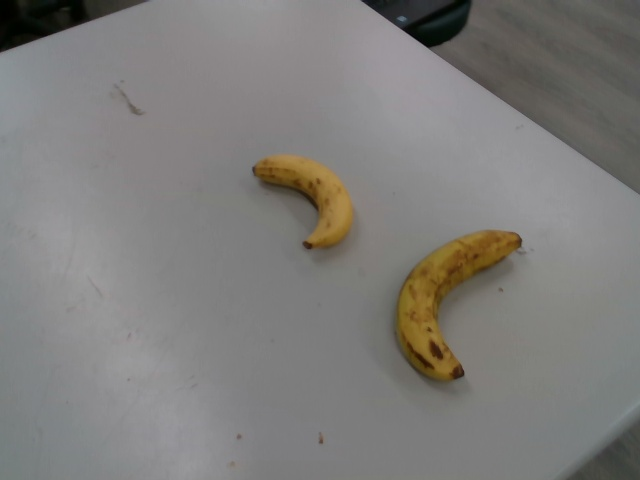banana: (390, 224, 521, 387), (252, 154, 354, 252)
